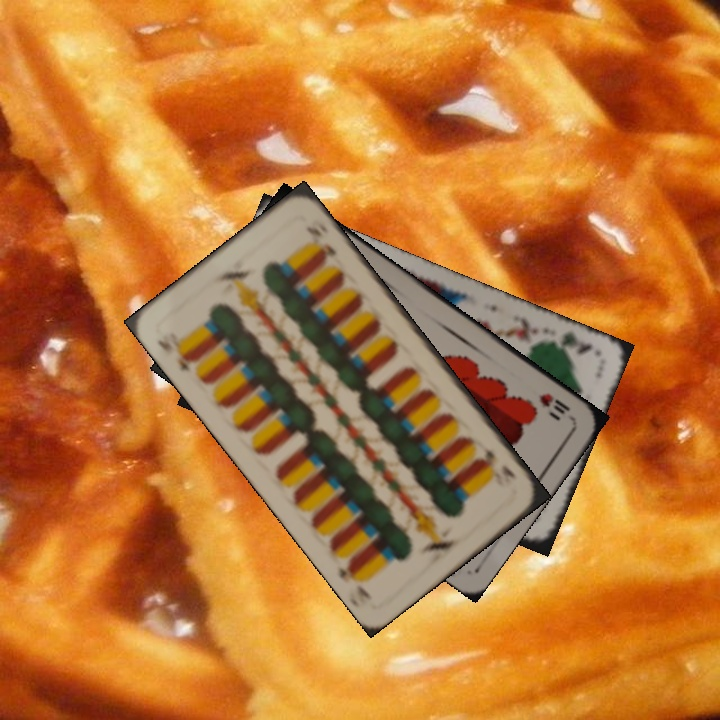E10: (153, 335, 198, 374), (476, 444, 519, 481)
GK: (558, 327, 595, 357)
H10: (534, 388, 576, 423)
